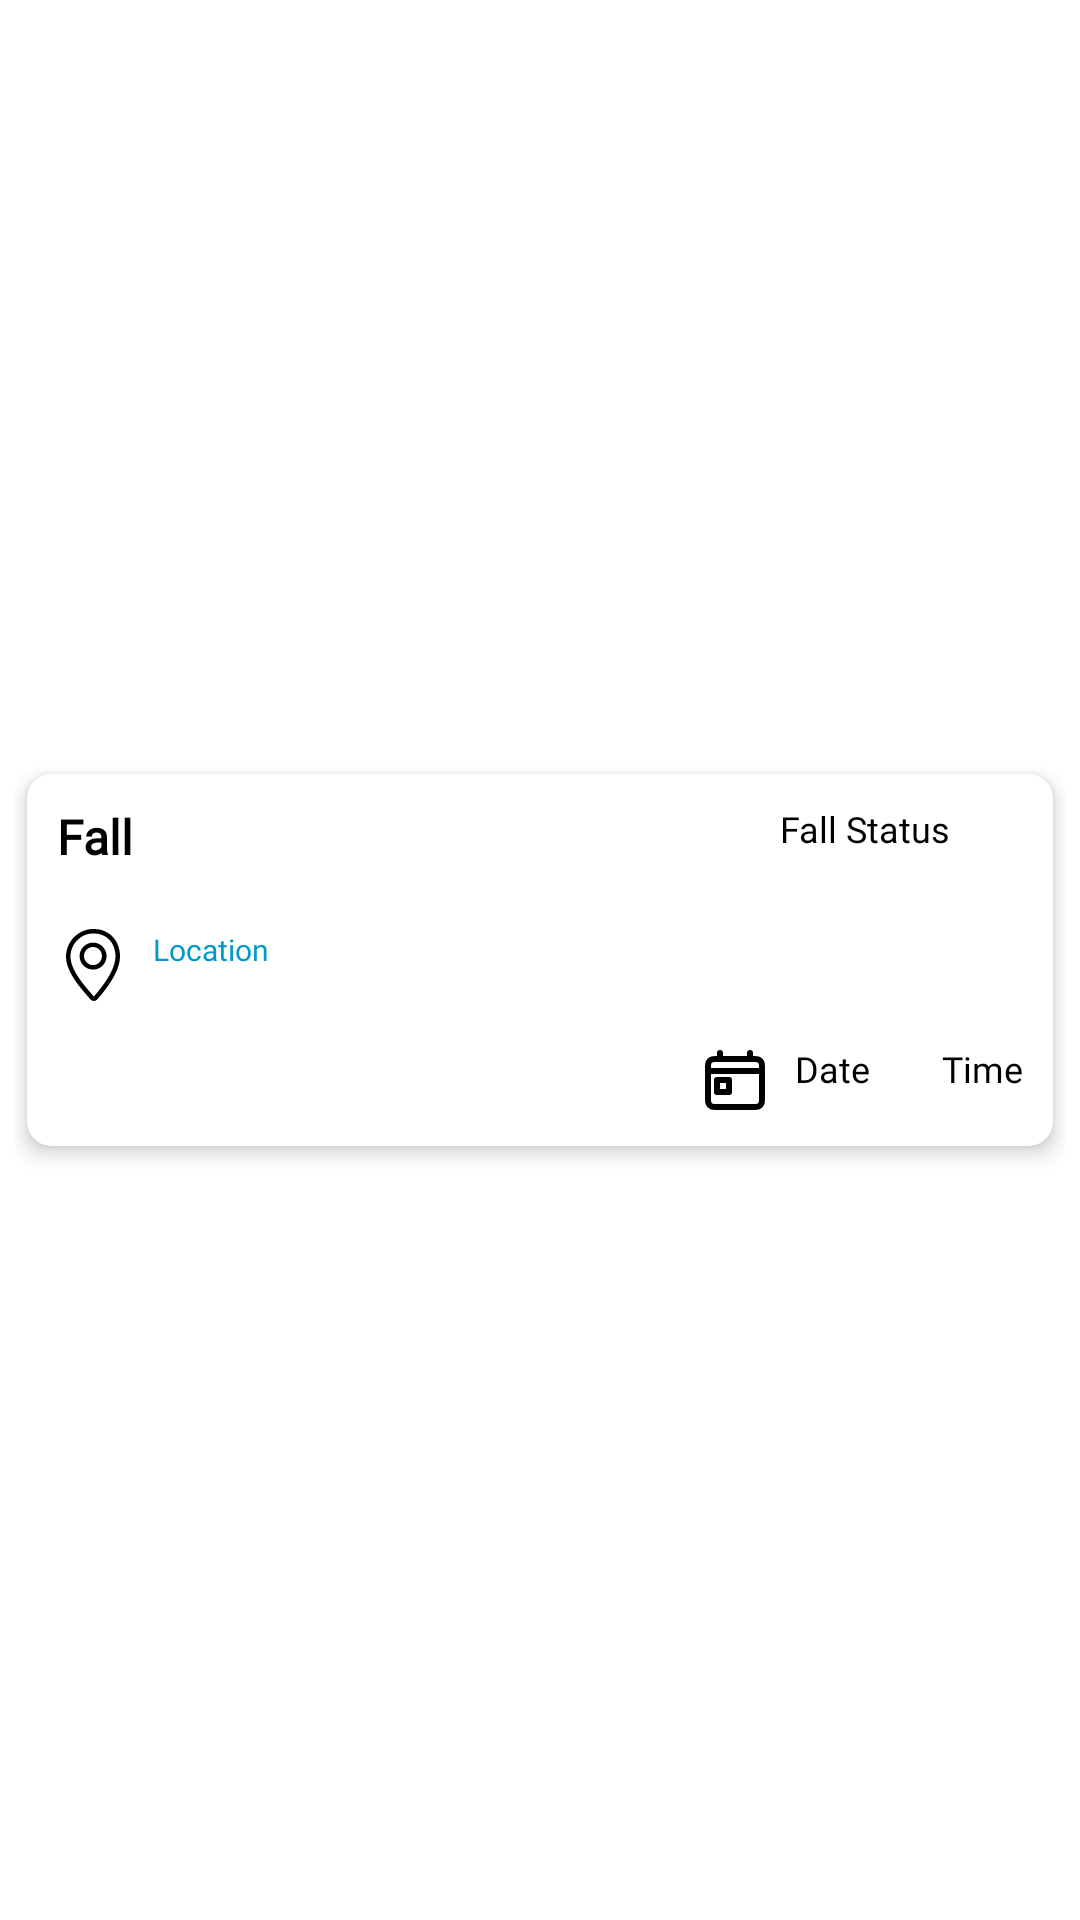

Icon bounding boxes for this 1080px×1920px phone screenshot, format [x1=x1, y1=y1, x2=x2, y2=y2]:
Calendar Icon: [x1=705, y1=1050, x2=765, y2=1110]
